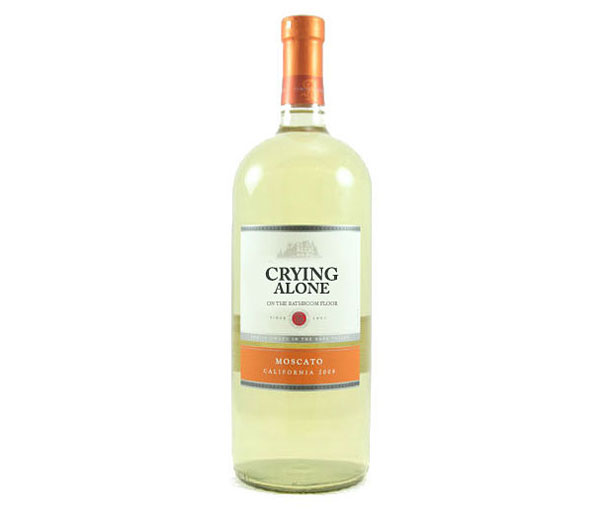bottle: (219, 2, 380, 502)
